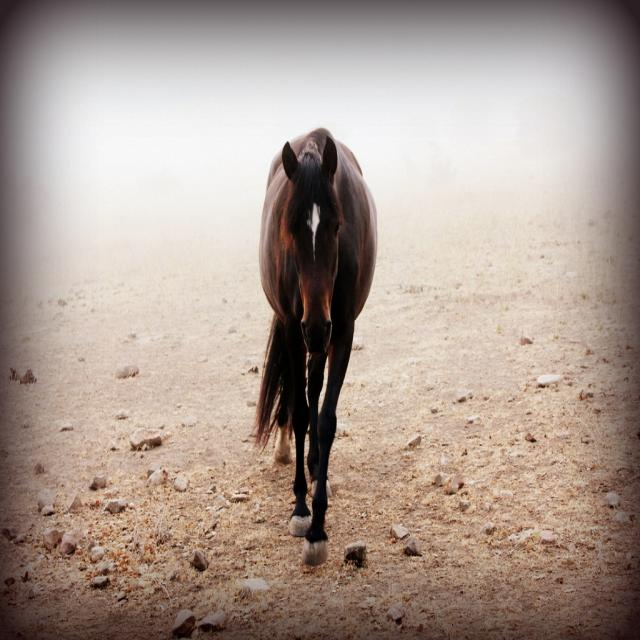Horse: (247, 127, 378, 565)
